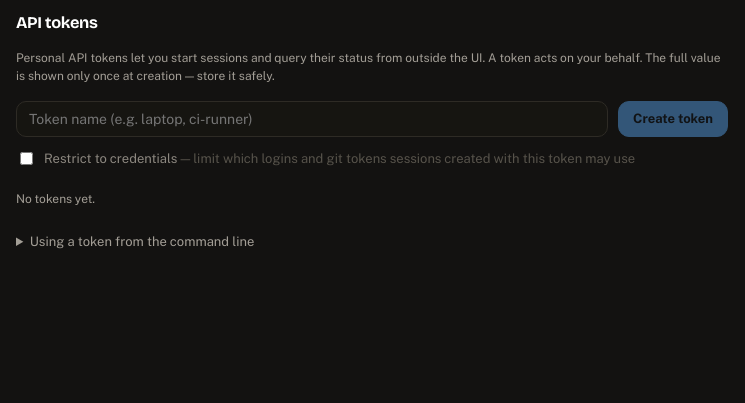
Test: restricting an API token to credentials › still offers the API-key switch when the listings are unavailable
This screenshot has width=745, height=403.
Click the checkbox at (26, 158), box [20,152,33,165]
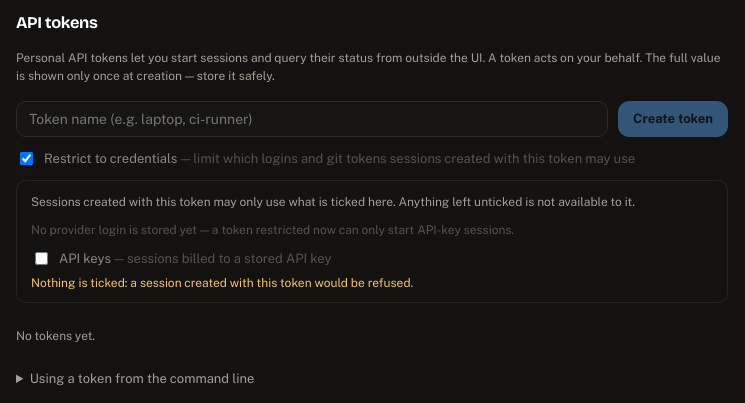
Result: the checkbox labelled "API keys — sessions billed to a stored API key" is shown at [35,252,48,265]
